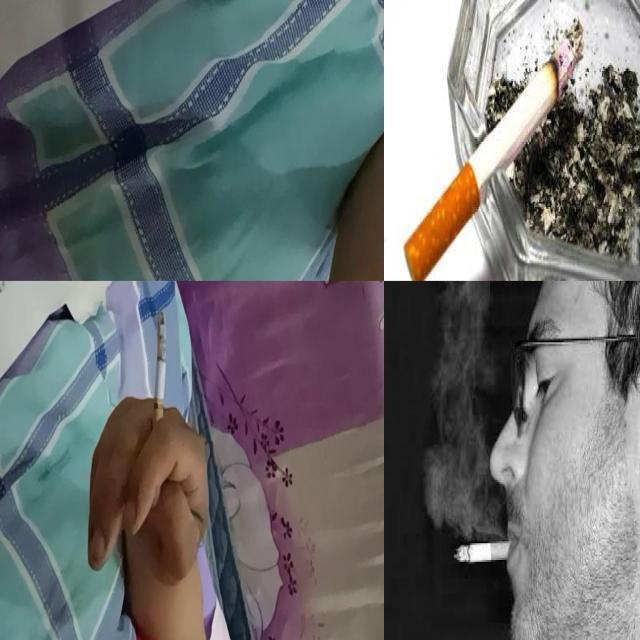smoking: (402, 16, 586, 280), (151, 312, 167, 460), (454, 539, 518, 564)
